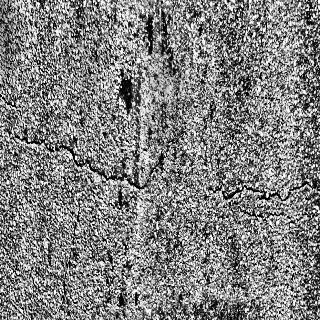crack: (0, 120, 165, 196), (209, 173, 320, 207), (61, 188, 81, 320), (240, 202, 292, 222), (0, 88, 24, 124)
